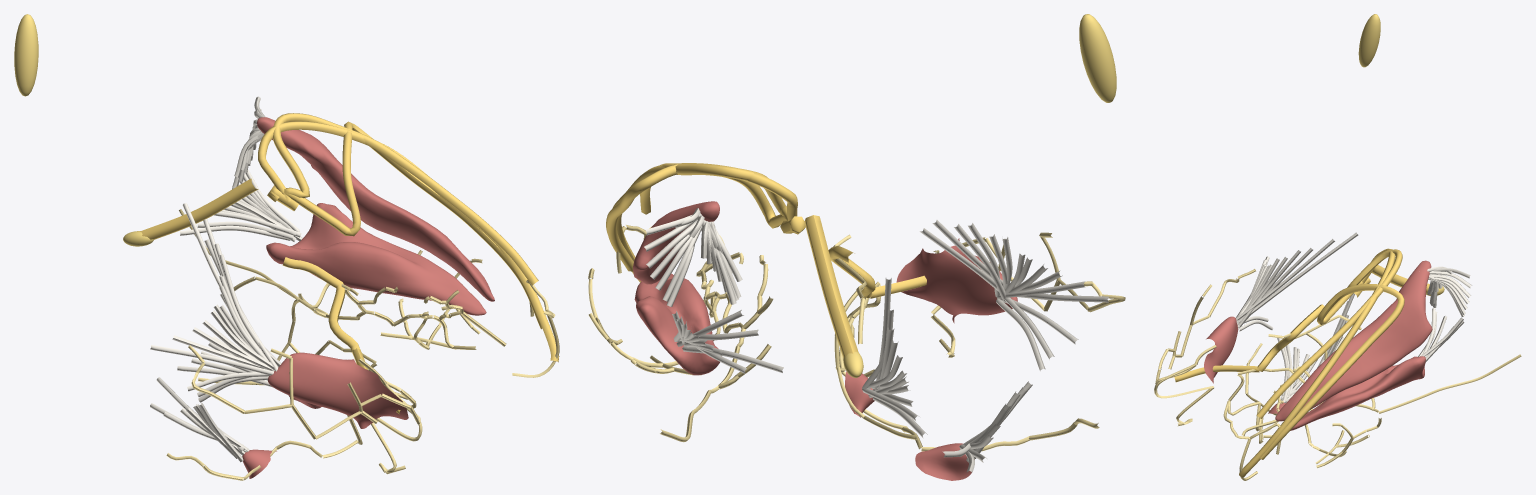
Rendered from heart-internals.glb.
3 views of the same model, side by side, from view 1: azimuth 30°, elevation 25°; view 2: azimuth 150°, elevation 25°; view 3: azimuth 270°, elevation 25° (orthographic). The views are drawn at different scales.
Visible parts, largest first — view 1: pap_lv_posteromedial, chordae_tricuspid, pap_lv_anterolateral, pap_rv_anterior, purkinje_rv, chordae_mitral, purkinje_lv, lbb_anterior, lbb_posterior, lbb_septal, sa_node, his (+1 smaller); view 2: chordae_tricuspid, chordae_mitral, pap_rv_anterior, purkinje_rv, pap_lv_posteromedial, purkinje_lv, his, sa_node, lbb_posterior, pap_lv_anterolateral, lbb_anterior, pap_rv_posterior (+3 smaller); view 3: pap_lv_anterolateral, chordae_tricuspid, purkinje_rv, pap_lv_posteromedial, lbb_posterior, purkinje_lv, chordae_mitral, lbb_septal, lbb_anterior, rbb, pap_rv_anterior, sa_node.
Part boxes in pixels (box(x1,y1,x2,y2)): pap_lv_posteromedial: box(266, 203, 486, 315); chordae_tricuspid: box(150, 203, 281, 462); pap_lv_anterolateral: box(257, 117, 494, 301); pap_rv_anterior: box(268, 352, 408, 428); purkinje_rv: box(166, 276, 422, 480); chordae_mitral: box(180, 96, 302, 241); purkinje_lv: box(179, 209, 559, 377); lbb_anterior: box(272, 113, 538, 285); lbb_posterior: box(282, 121, 542, 329); lbb_septal: box(258, 121, 559, 362); sa_node: box(14, 14, 38, 96); his: box(140, 178, 258, 239); chordae_tricuspid: box(862, 220, 1108, 472); chordae_mitral: box(644, 208, 783, 373); pap_rv_anterior: box(896, 238, 1017, 323); purkinje_rv: box(833, 232, 1125, 451); pap_lv_posteromedial: box(634, 273, 719, 375); purkinje_lv: box(588, 225, 773, 442); his: box(804, 215, 858, 358); sa_node: box(1079, 14, 1116, 102); lbb_posterior: box(606, 164, 787, 271); pap_lv_anterolateral: box(633, 201, 719, 284); lbb_anterior: box(640, 163, 787, 221); pap_rv_posterior: box(915, 443, 974, 480); pap_lv_anterolateral: box(1275, 260, 1432, 421); chordae_tricuspid: box(1236, 232, 1358, 403); purkinje_rv: box(1154, 269, 1361, 443); pap_lv_posteromedial: box(1290, 356, 1425, 430); lbb_posterior: box(1260, 284, 1404, 459); purkinje_lv: box(1230, 354, 1521, 480); chordae_mitral: box(1418, 266, 1471, 362); lbb_septal: box(1239, 248, 1395, 477); lbb_anterior: box(1256, 249, 1402, 418); rbb: box(1174, 304, 1324, 382); pap_rv_anterior: box(1204, 316, 1238, 383); sa_node: box(1358, 14, 1380, 67).
Size of the model in its own units: 0.9522 by 0.9007 by 0.86.
